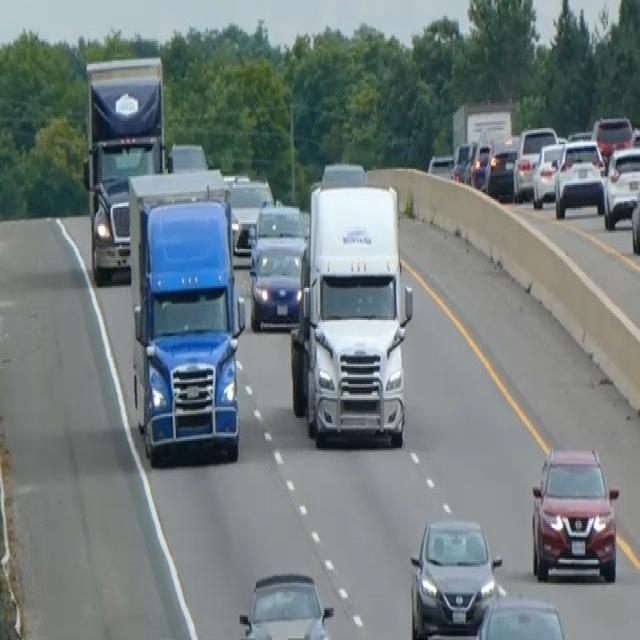car: (530, 443, 619, 583), (408, 516, 502, 638), (236, 569, 335, 638), (248, 234, 305, 330), (224, 173, 274, 263), (554, 135, 605, 219), (473, 594, 568, 638), (249, 199, 306, 263), (512, 124, 557, 201), (602, 144, 639, 229), (531, 140, 564, 208), (484, 135, 519, 199), (591, 114, 633, 167), (165, 140, 207, 172), (320, 160, 368, 187), (467, 137, 491, 188), (451, 139, 475, 183), (427, 151, 454, 180), (630, 169, 639, 256)
lorry: (126, 167, 246, 466), (288, 178, 414, 448), (81, 53, 166, 284)
